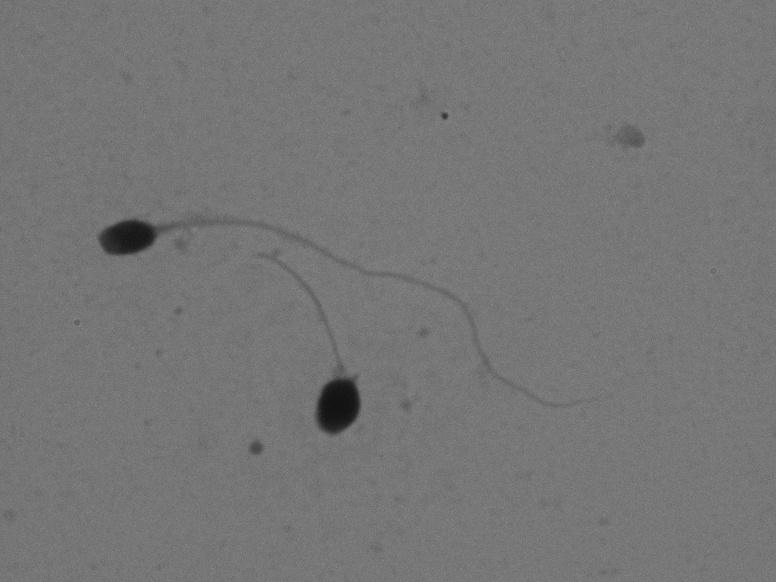Abnormal: (215, 241, 399, 456)
Normal: (60, 193, 627, 459)
